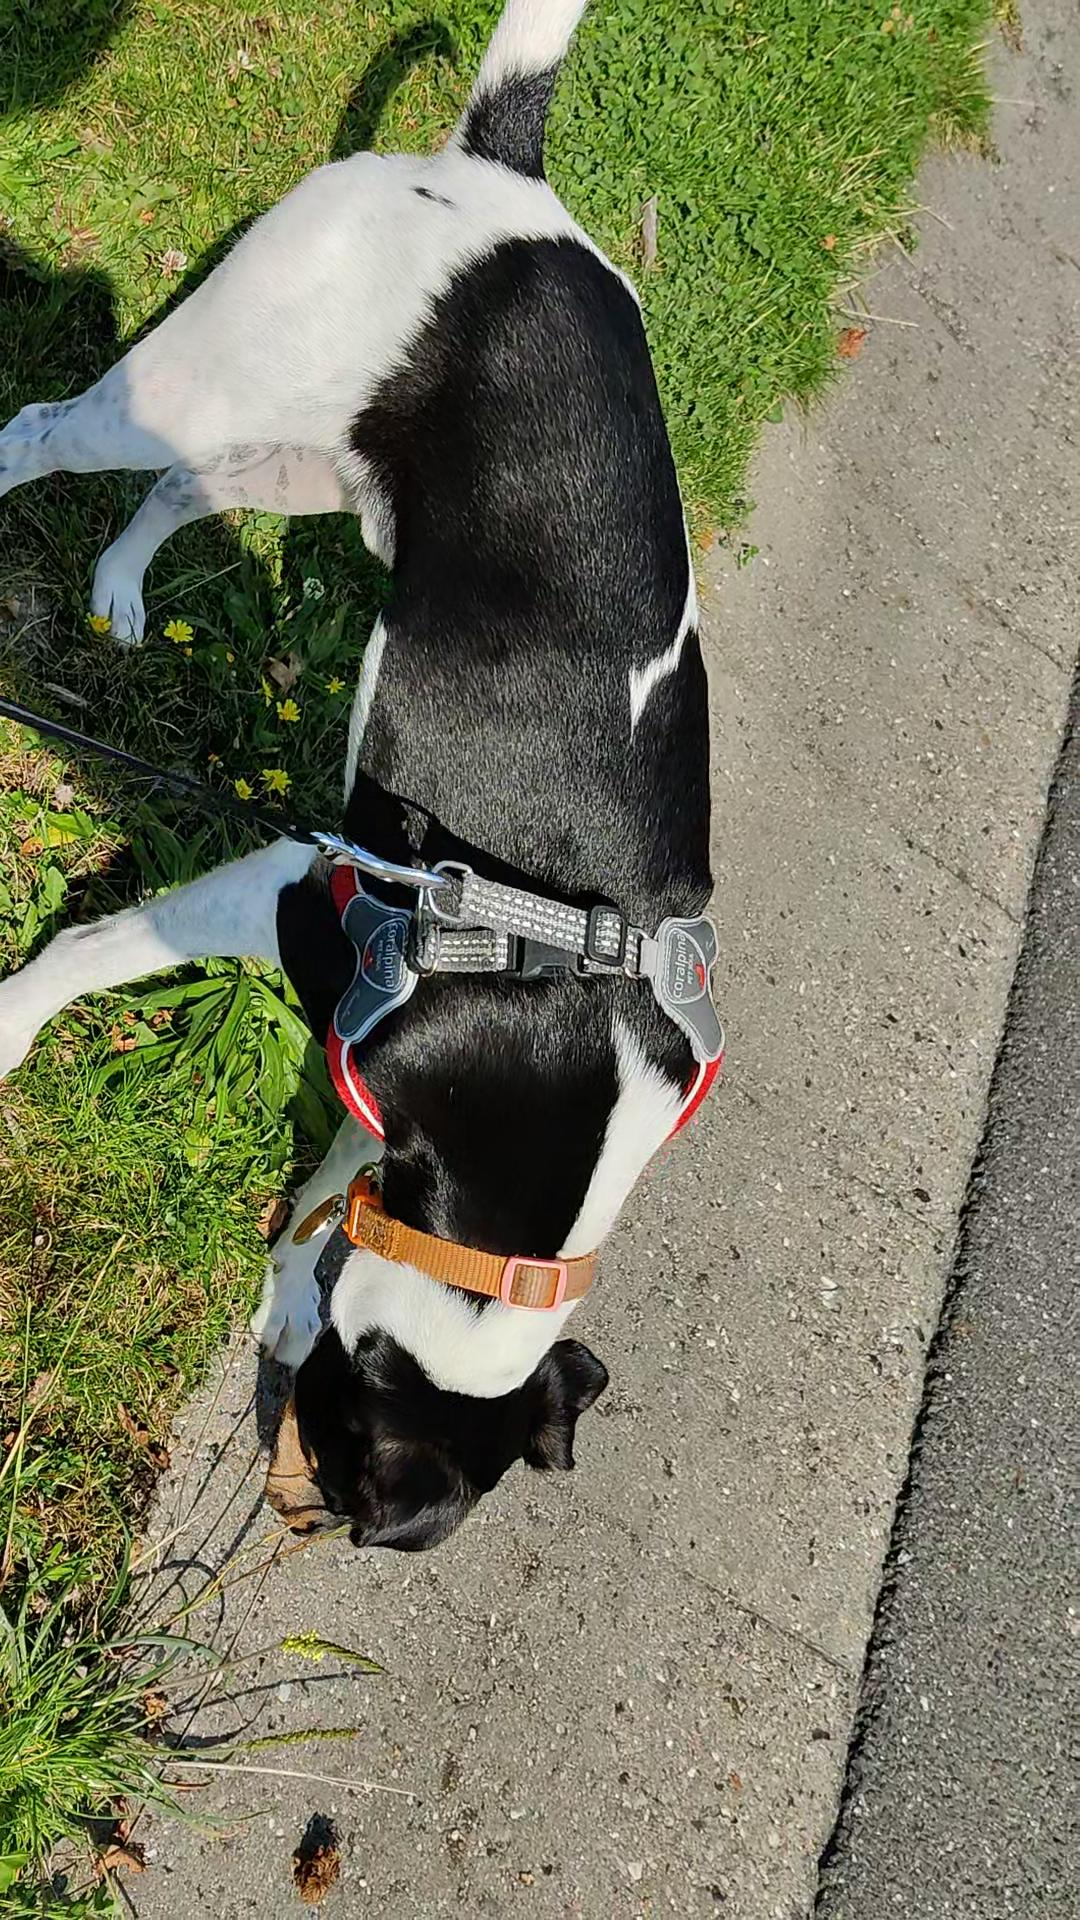Dog: (0, 0, 735, 1585)
